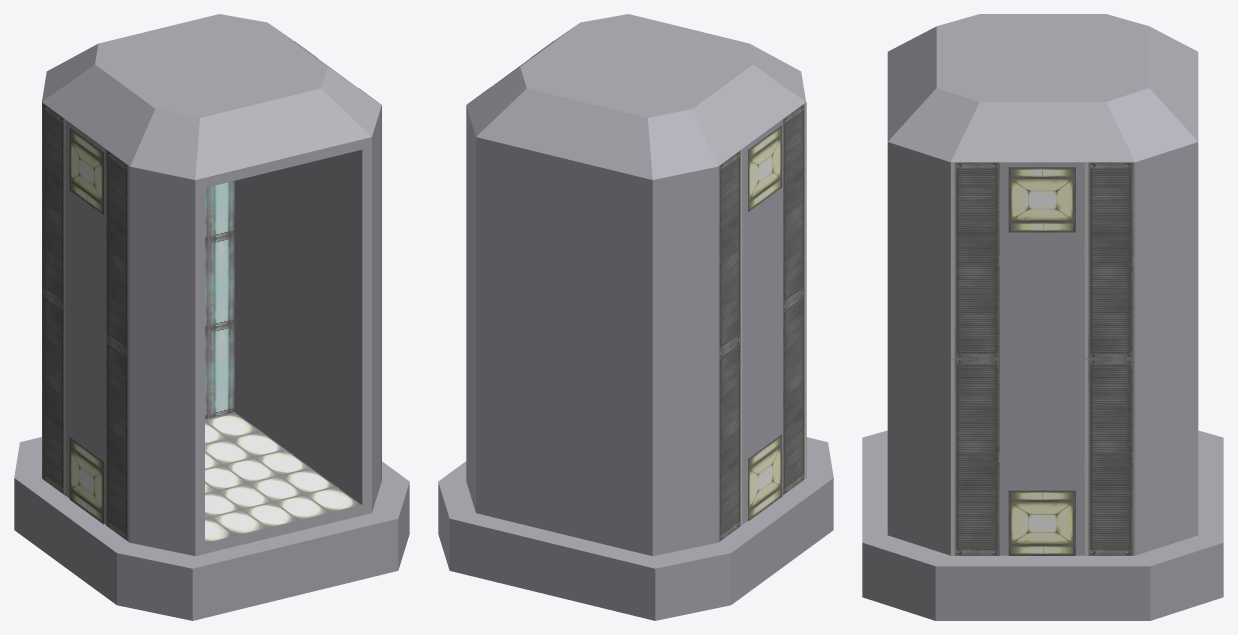
Rendered from Freezer.FBX.
3 views of the same model, side by side, from view 1: azimuth 30°, elevation 25°; view 2: azimuth 150°, elevation 25°; view 3: azimuth 270°, elevation 25° (orthographic). The views are drawn at different scales.
Parts seen in each view (by area): view 1: Freezer_mesh; view 2: Freezer_mesh; view 3: Freezer_mesh.
Part boxes in pixels (<box>): Freezer_mesh: <box>14,14,409,620</box>; Freezer_mesh: <box>438,14,833,620</box>; Freezer_mesh: <box>862,14,1223,620</box>.
Bounding box in the file's own units: 163 × 248 × 167.
Materials: 2 (2 with a texture image).
